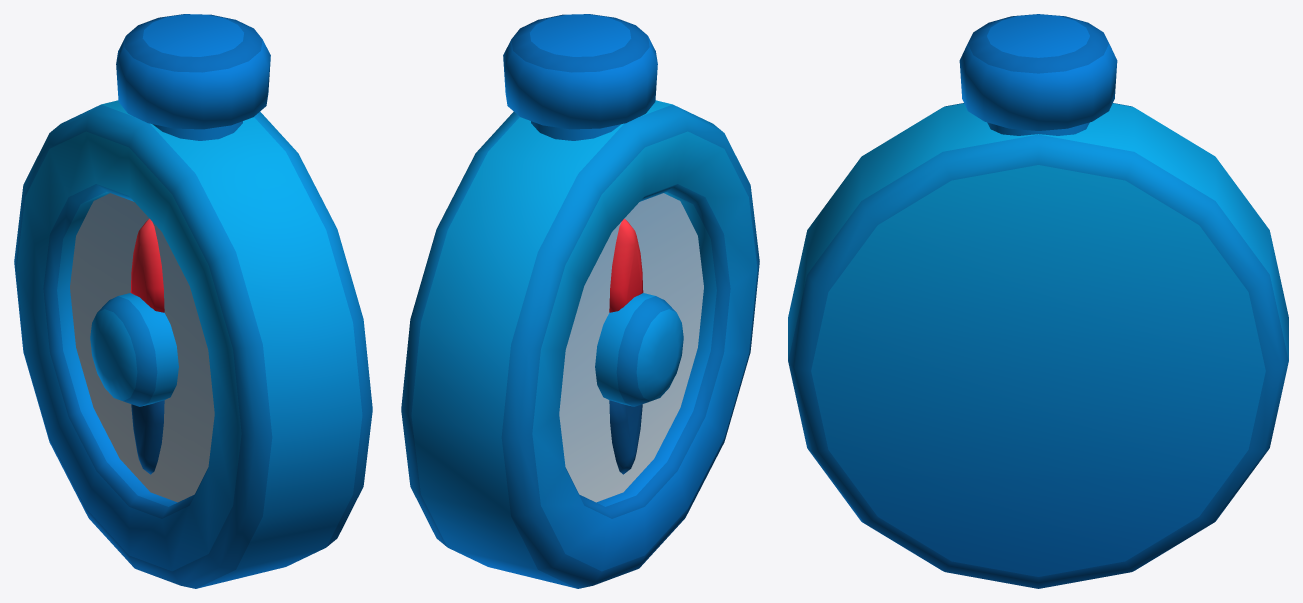
The model's file is Compass_V1_00.fbx.
3 renders of one model, left to right at view 1: azimuth 30°, elevation 25°; view 2: azimuth 150°, elevation 25°; view 3: azimuth 270°, elevation 25°, orthographic.
Parts seen in each view (by area): view 1: Compass_V1_00; view 2: Compass_V1_00; view 3: Compass_V1_00.
Boxes of the visible parts, bbox=[...] form: Compass_V1_00: bbox=[14, 14, 372, 588]; Compass_V1_00: bbox=[401, 14, 759, 588]; Compass_V1_00: bbox=[788, 14, 1288, 588].
Size of the model in its own units: 12.2 by 39.84 by 34.11.
